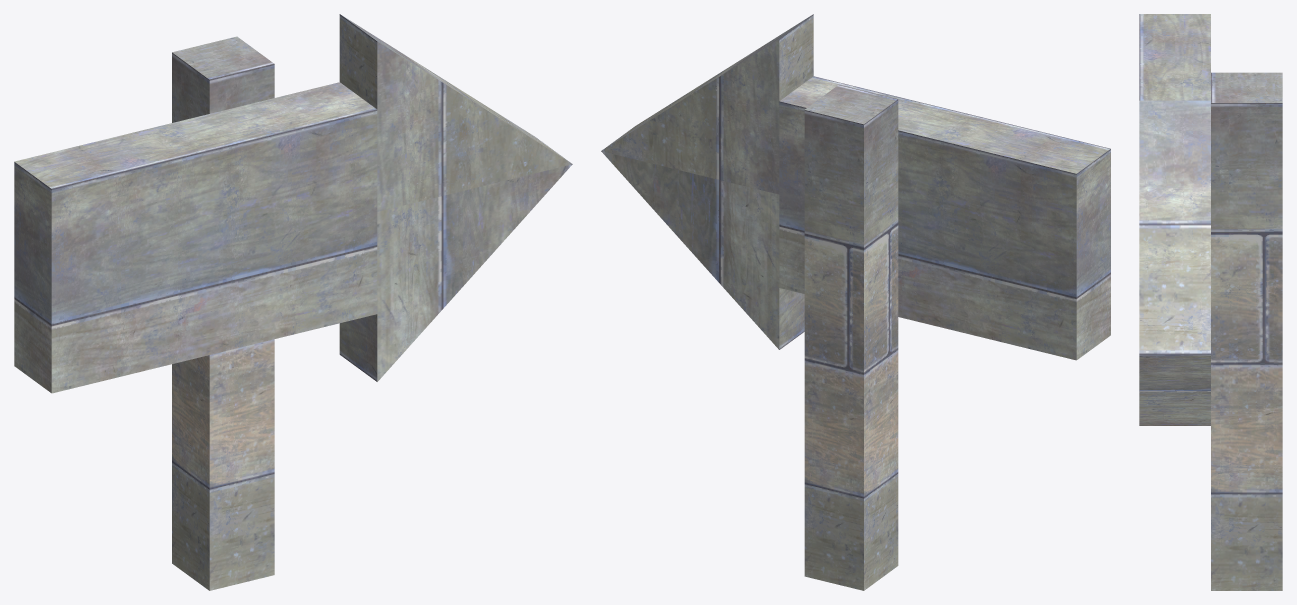
File: ArrowSign.obj
The picture shows the model from 3 angles, left to right: view 1: azimuth 30°, elevation 25°; view 2: azimuth 150°, elevation 25°; view 3: azimuth 270°, elevation 25°; orthographic projection. The views are drawn at different scales.
Parts seen in each view (by area): view 1: Part1, Part2, Wedge2, Wedge1; view 2: Part1, Part2, Wedge2, Wedge1; view 3: Part2, Wedge2, Part1, Wedge1.
Boxes of the visible parts, <box> form: Part1: <box>14,82,377,393</box>; Part2: <box>172,36,274,590</box>; Wedge2: <box>339,14,572,211</box>; Wedge1: <box>339,164,572,381</box>; Part1: <box>779,76,1110,360</box>; Part2: <box>804,85,898,590</box>; Wedge2: <box>601,14,813,194</box>; Wedge1: <box>601,151,804,349</box>; Part2: <box>1211,72,1282,590</box>; Wedge2: <box>1139,100,1210,354</box>; Part1: <box>1139,14,1210,100</box>; Wedge1: <box>1139,354,1210,425</box>.
Bounding box in the file's own units: 4 × 4 × 1.
Materials: 1 (1 with a texture image).
